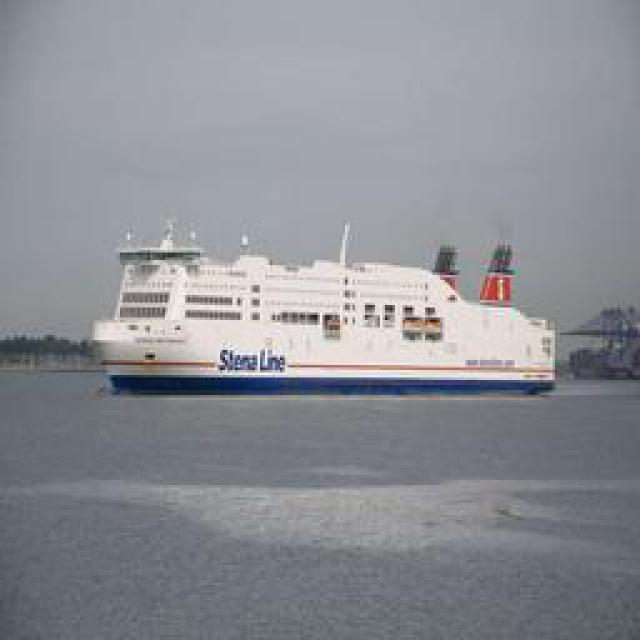Ship: (107, 218, 560, 396)
